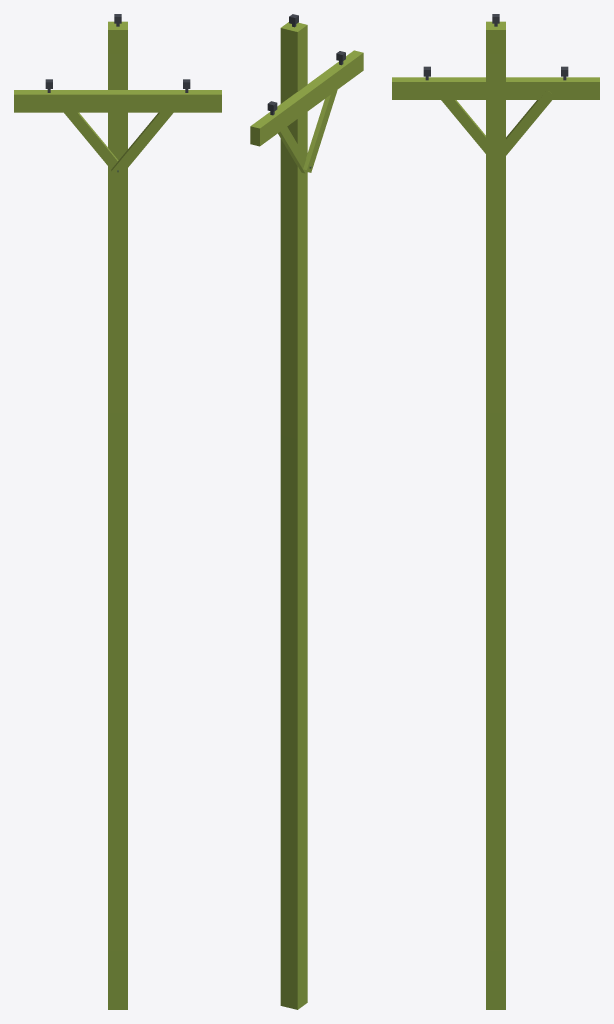
Rendered from PowerLines_01.fbx.
3 renders of one model, left to right at view 1: azimuth 90°, elevation 25°; view 2: azimuth 150°, elevation 25°; view 3: azimuth 270°, elevation 25°, orthographic.
Visible parts, largest first — view 1: PowerLines_01; view 2: PowerLines_01; view 3: PowerLines_01.
Part boxes in pixels (x1=…): PowerLines_01: x1=14, y1=14, x2=221, y2=1009; PowerLines_01: x1=250, y1=14, x2=363, y2=1009; PowerLines_01: x1=392, y1=14, x2=599, y2=1009.
Size of the model in its own units: 0.1529 by 5.51 by 1.05.
